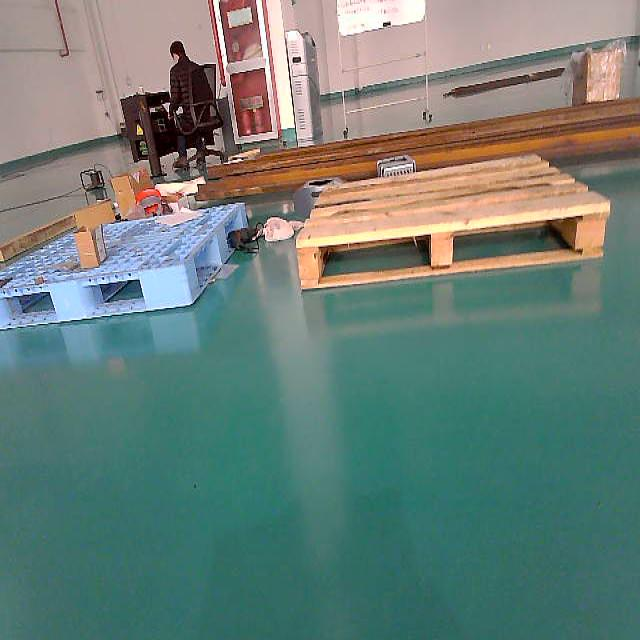euro: (296, 155, 612, 289)
